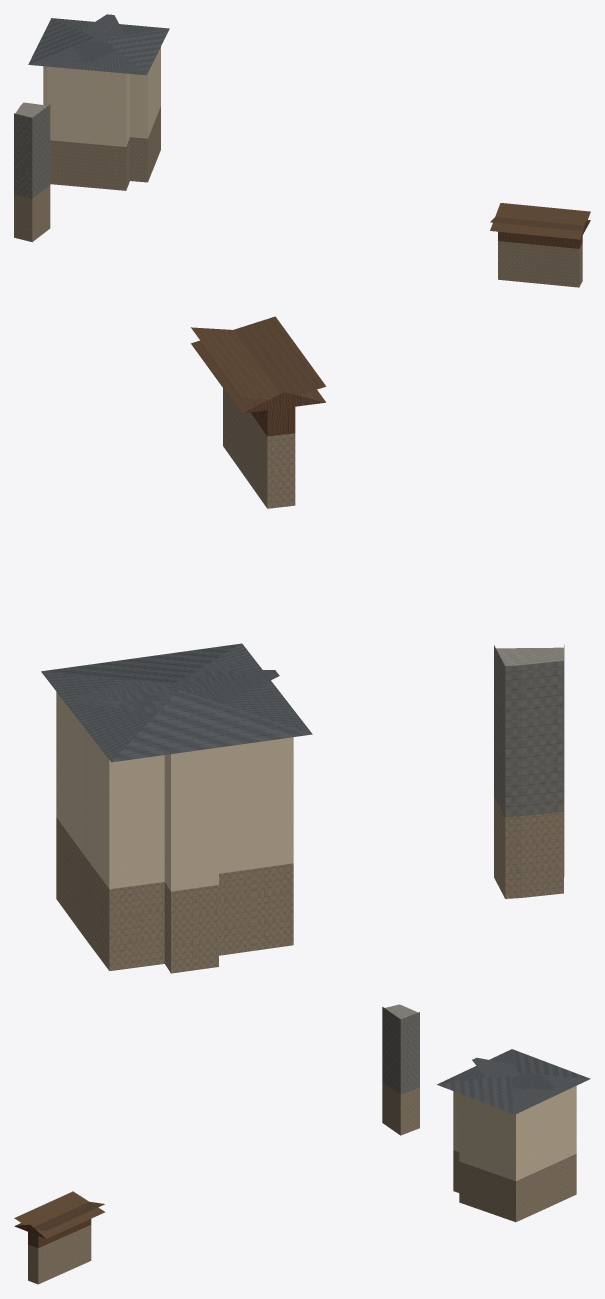
File: bld_c10_17_438.gltf
The picture shows the model from 3 angles, top to bottom: view 1: azimuth 30°, elevation 25°; view 2: azimuth 150°, elevation 25°; view 3: azimuth 270°, elevation 25°; orthographic projection. The views are drawn at different scales.
Visible parts, largest first — view 1: bld_c10_17_438; view 2: bld_c10_17_438; view 3: bld_c10_17_438.
Boxes of the visible parts, x1,y1,x2,y2 form: bld_c10_17_438: [14, 14, 590, 287]; bld_c10_17_438: [41, 316, 564, 973]; bld_c10_17_438: [14, 1004, 590, 1284].
Size of the model in its own units: 47.3 by 15.48 by 65.07.
9 materials, 9 textured.
